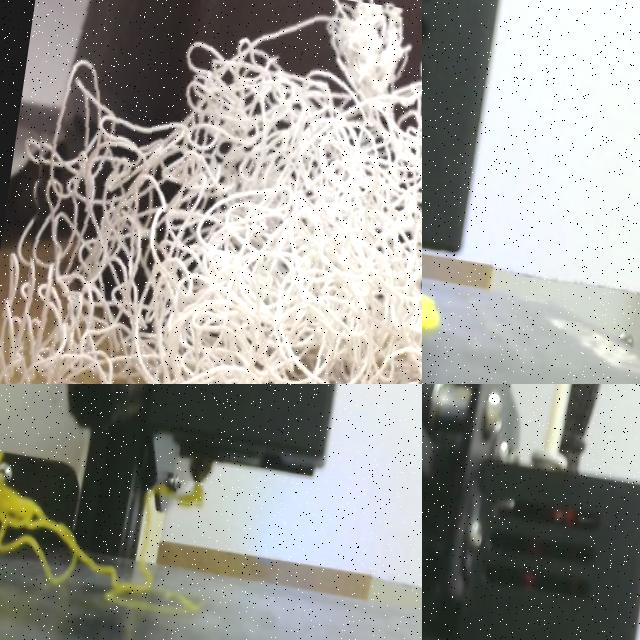spaghetti: (0, 0, 422, 384), (0, 452, 199, 613), (153, 482, 203, 505)
